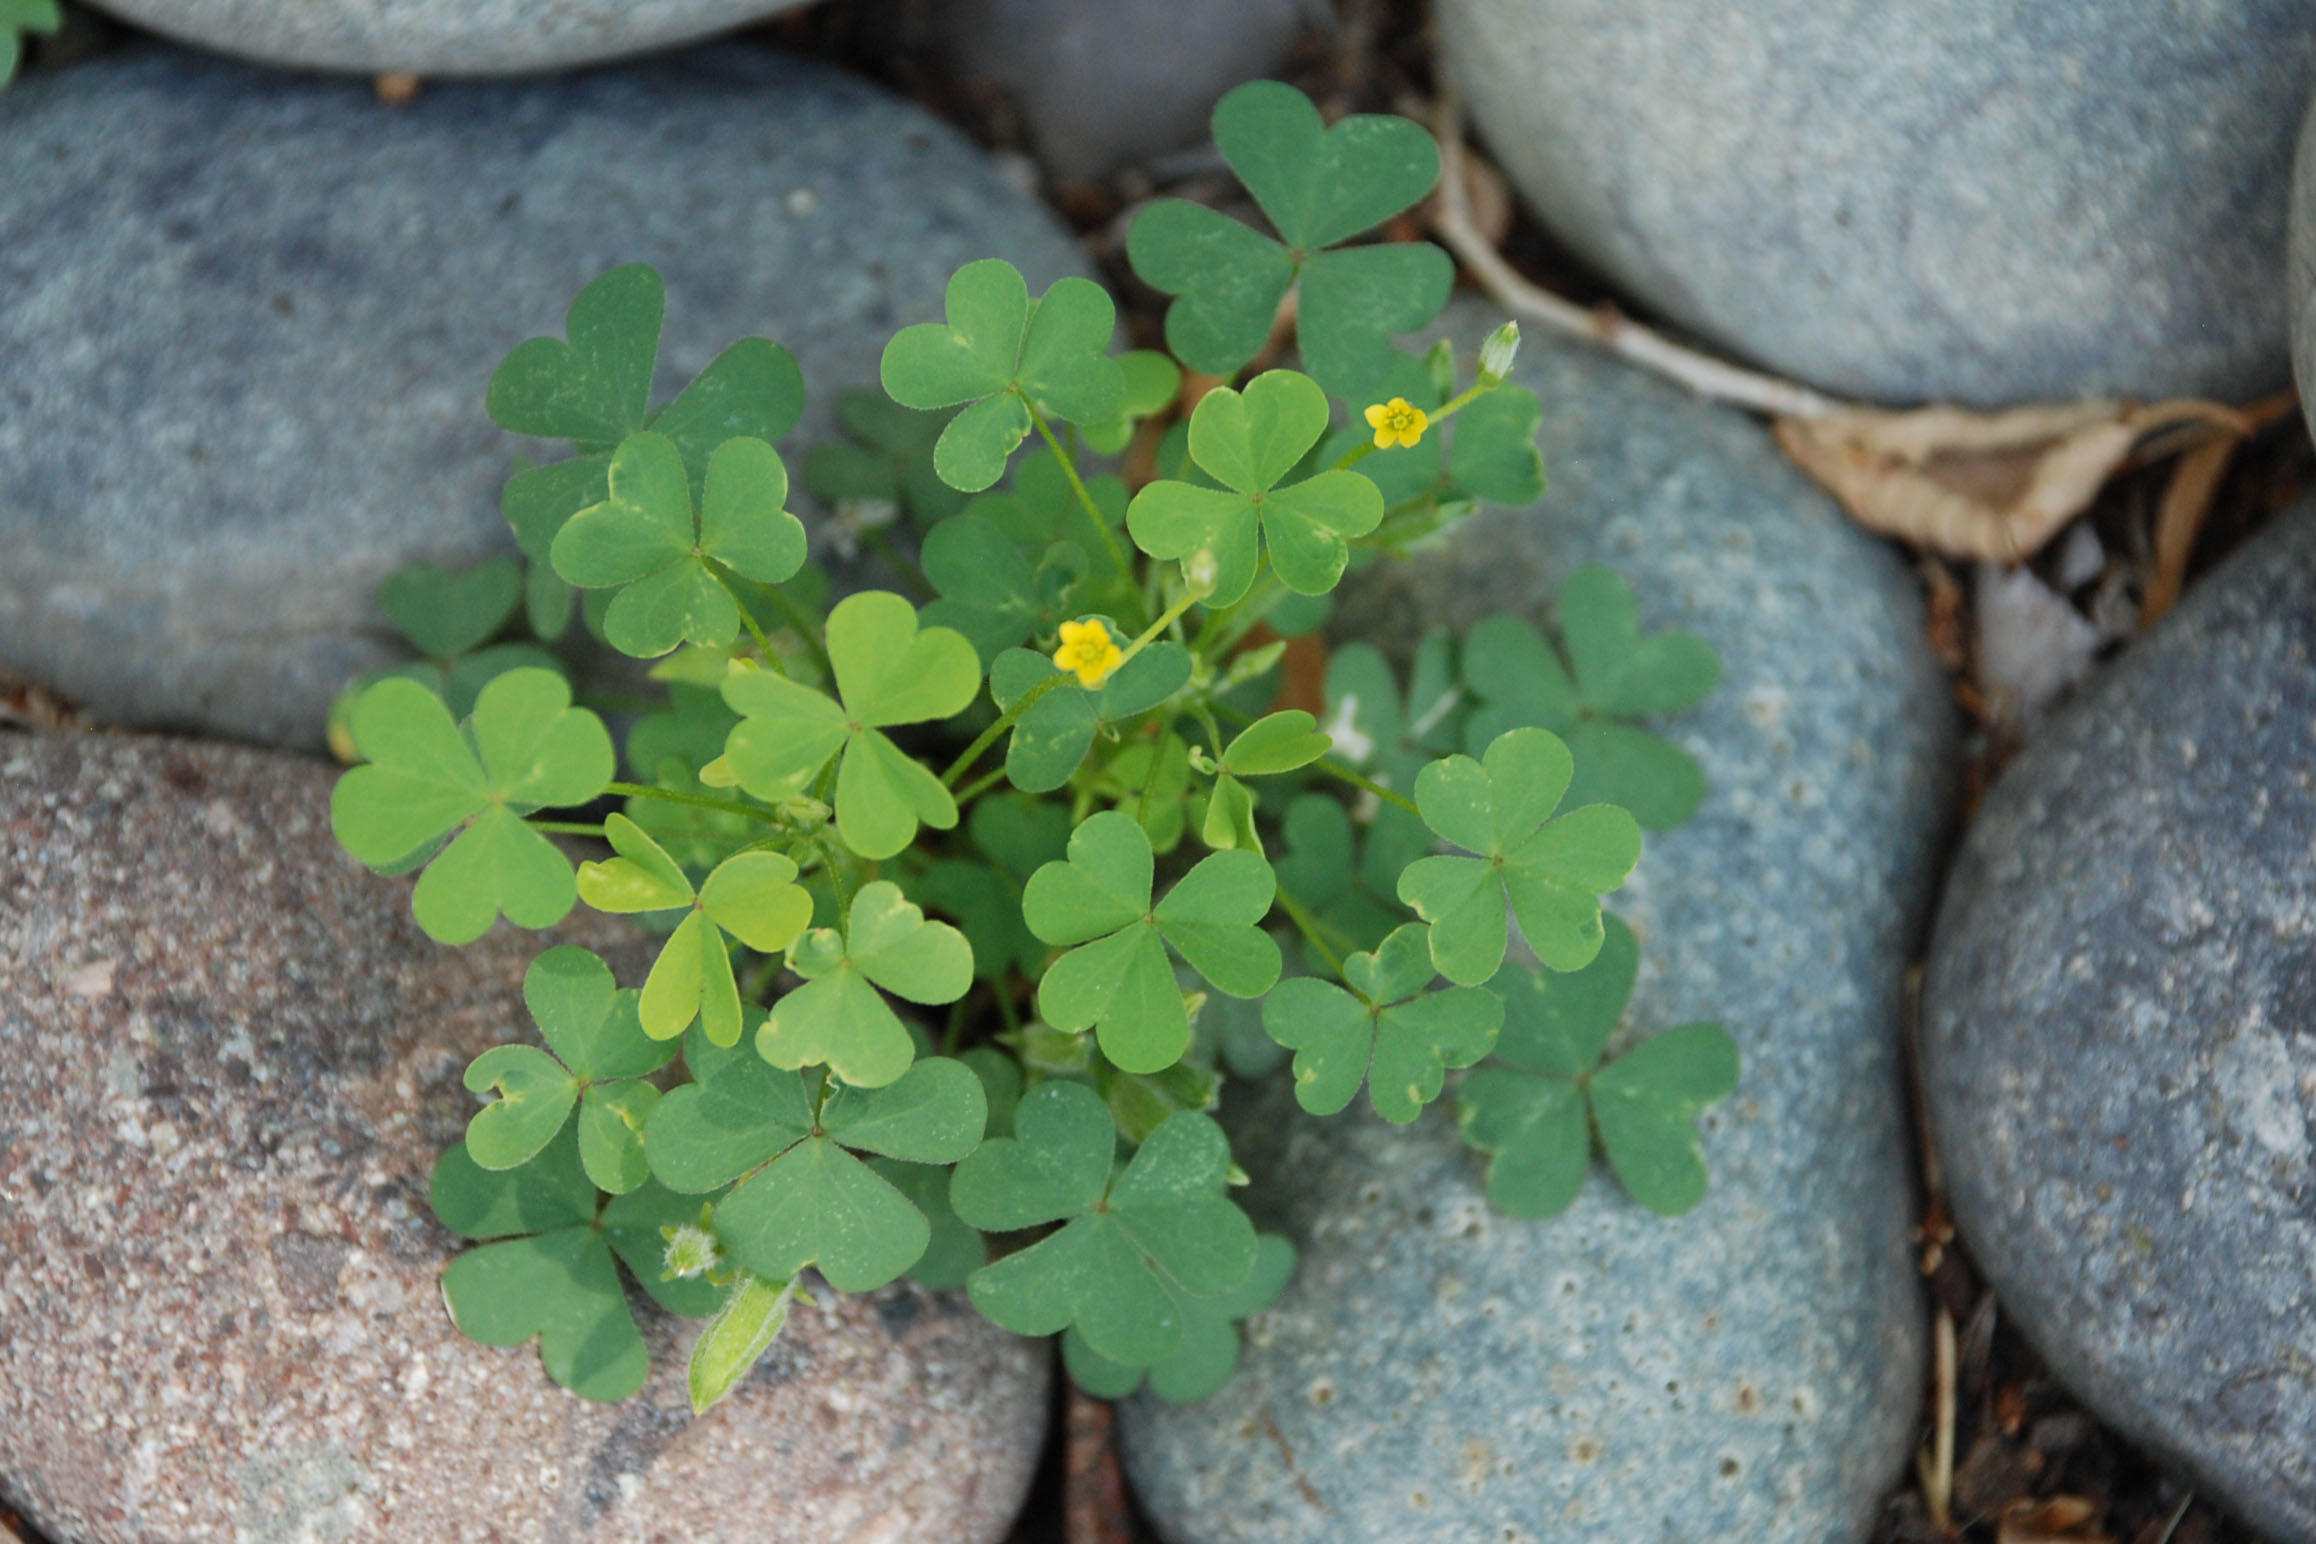clover: (1117, 72, 1463, 408), (643, 1001, 989, 1298), (937, 1074, 1265, 1372), (1446, 915, 1746, 1225), (326, 660, 619, 949), (1017, 806, 1287, 1079), (713, 588, 982, 862), (1396, 715, 1647, 991), (1113, 369, 1391, 615), (543, 424, 808, 663), (567, 803, 817, 1056), (872, 260, 1132, 498)
